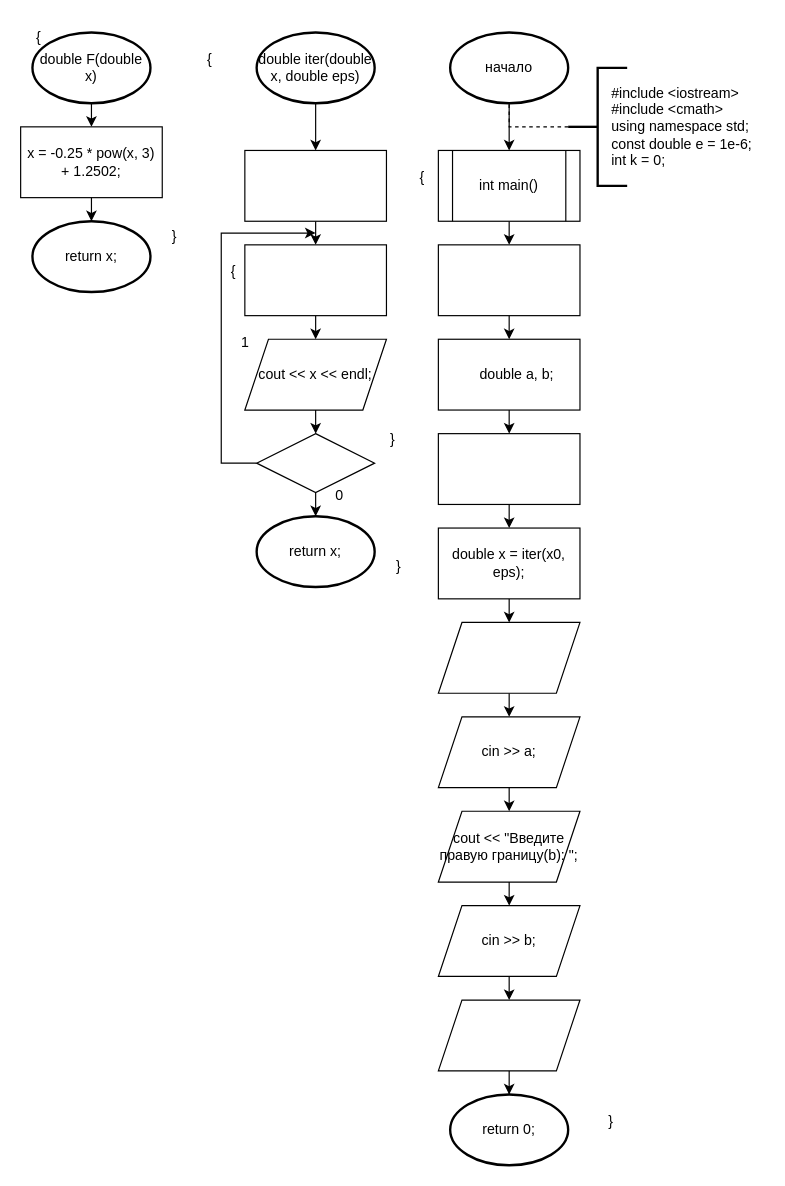
Image size: 785x1186. Some labels were removed from this diagram. Here are the shapes that lost their labels. From the top down, the centre of each, then its label:
the point at 315,185: double x0;
the point at 315,280: x0 = x; x = F(x0); k++;
the point at 508,280: setlocale(LC_ALL, "RU");
the point at 315,462: while (abs(x0 - x) >= eps);
the point at 508,468: double x0 = (a+b) / 2;
the point at 508,657: cout << "Введите левуя границу(a): ";
the point at 508,1035: cout << "Корень: " << x << endl << "Итераций: " << k;
